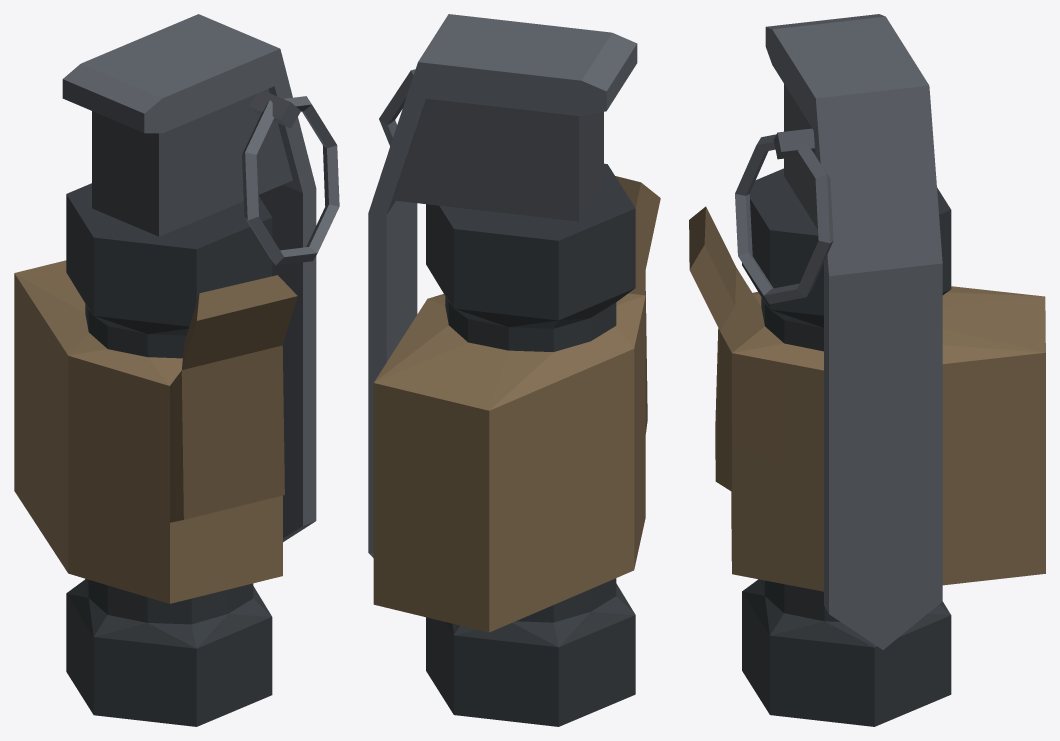
File: SM_Chr_Attach_Grenade_Flash_01.fbx
3 views of the same model, side by side, from view 1: azimuth 30°, elevation 25°; view 2: azimuth 150°, elevation 25°; view 3: azimuth 270°, elevation 25° (orthographic).
Parts seen in each view (by area): view 1: SM_Chr_Attach_Grenade_Flash_01; view 2: SM_Chr_Attach_Grenade_Flash_01; view 3: SM_Chr_Attach_Grenade_Flash_01.
Boxes of the visible parts, box(x1,y1,x2,y2) form: SM_Chr_Attach_Grenade_Flash_01: box(14, 14, 339, 726); SM_Chr_Attach_Grenade_Flash_01: box(368, 14, 660, 726); SM_Chr_Attach_Grenade_Flash_01: box(689, 14, 1045, 726).
Bounding box in the file's own units: 7.66 × 17.61 × 9.02.
